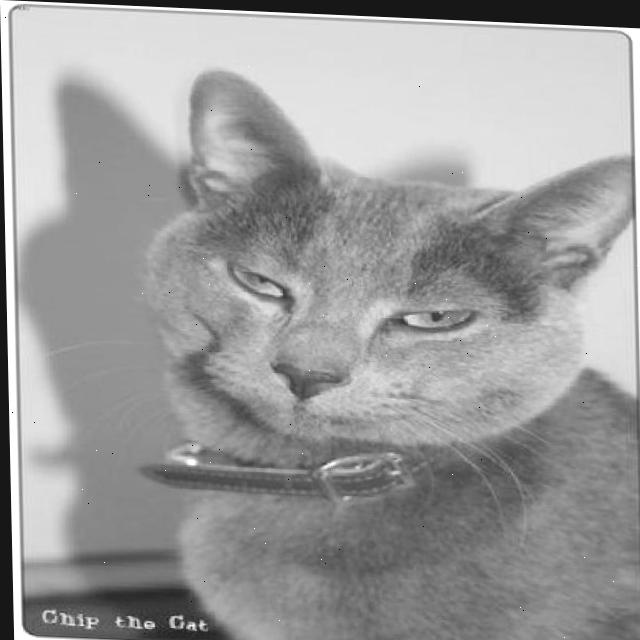Cat: (141, 64, 640, 640)
